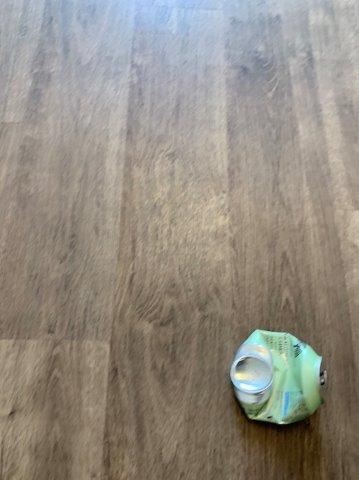kaleng: (231, 331, 324, 422)
